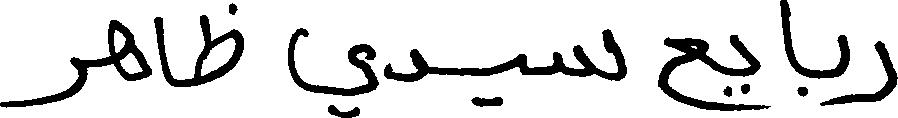X: (288, 23, 378, 117), (0, 52, 86, 112), (554, 24, 626, 85), (194, 0, 242, 90), (660, 32, 706, 114), (107, 15, 149, 85), (732, 30, 761, 115), (862, 36, 897, 106), (779, 0, 799, 99), (385, 44, 425, 86), (156, 12, 171, 90), (834, 30, 849, 108), (515, 49, 529, 79)
